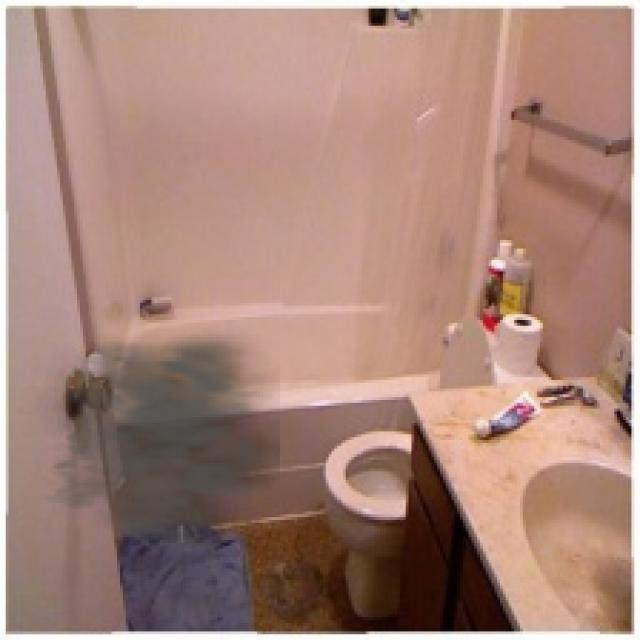smoke: (20, 323, 280, 546)
